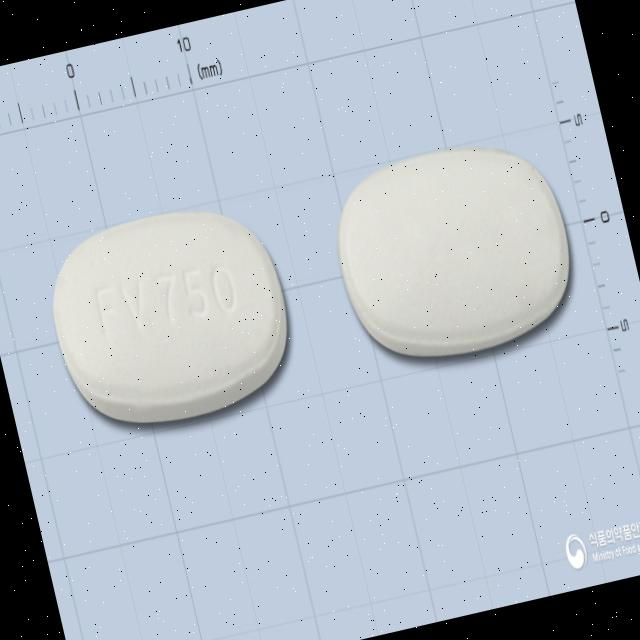Famvir: (34, 190, 306, 444), (319, 124, 588, 376)
